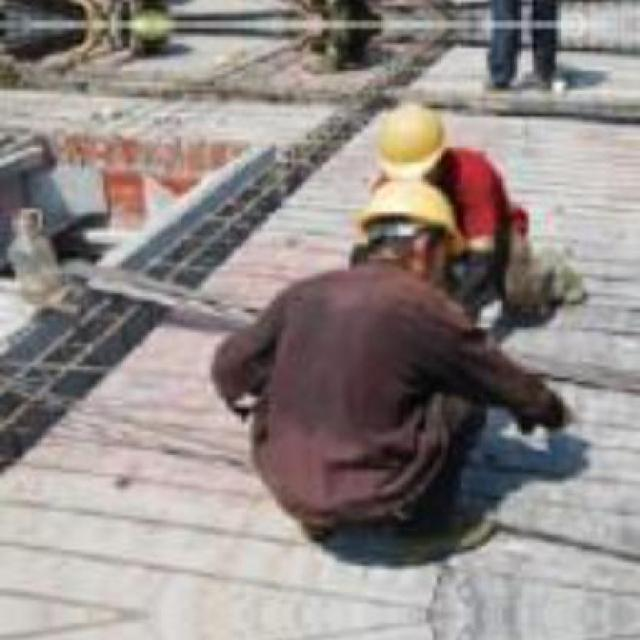helmet: (352, 170, 466, 284), (367, 102, 455, 185)
